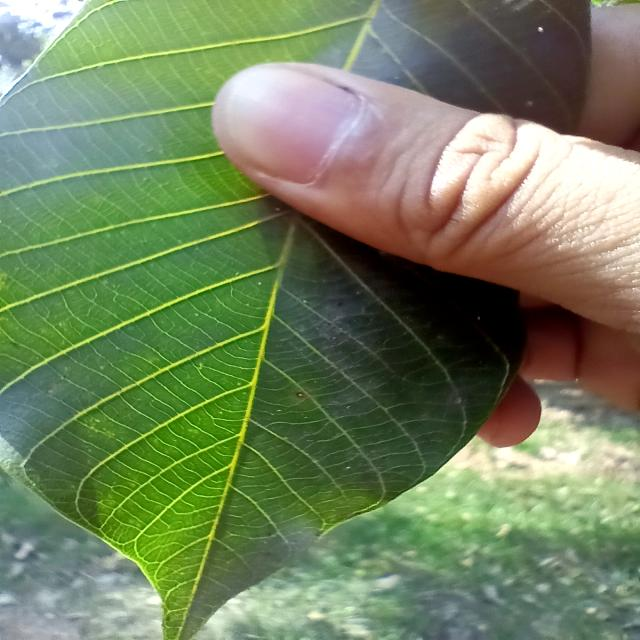Colletotrichum: (296, 392, 304, 398)
